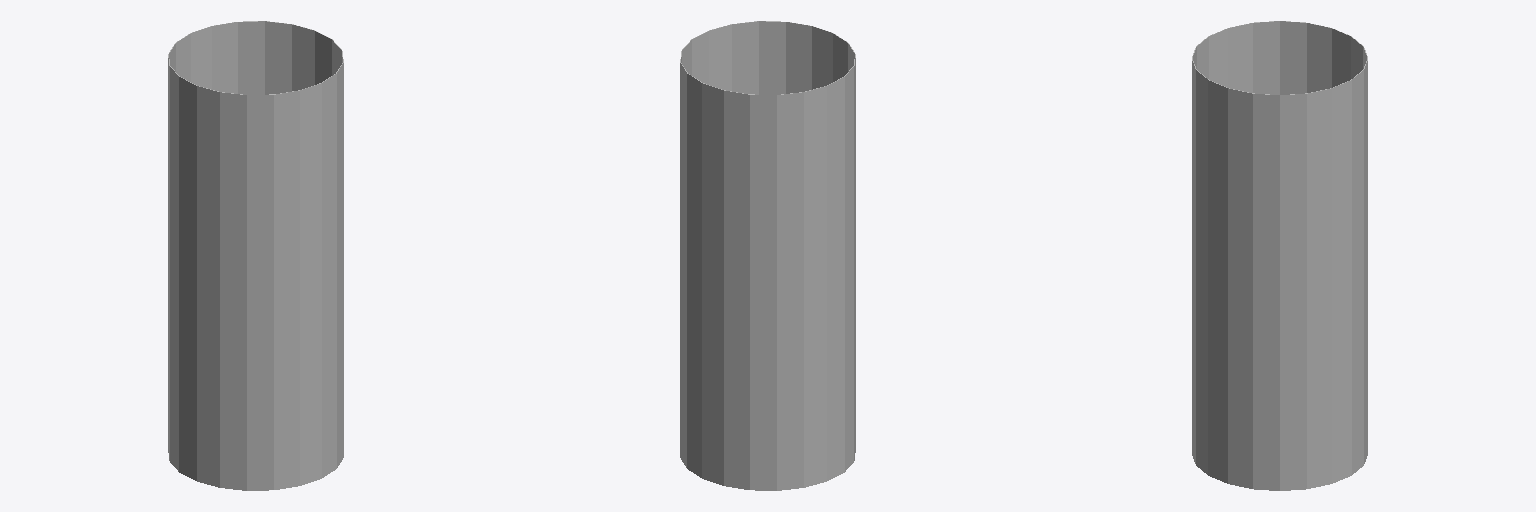
The model's file is cylinder-projection.obj.
The picture shows the model from 3 angles: view 1: azimuth 30°, elevation 25°; view 2: azimuth 150°, elevation 25°; view 3: azimuth 270°, elevation 25°; orthographic projection.
Visible parts, largest first — view 1: pPipe1; view 2: pPipe1; view 3: pPipe1.
Boxes of the visible parts, <box> form: pPipe1: <box>168,21,343,490</box>; pPipe1: <box>680,21,855,490</box>; pPipe1: <box>1192,21,1367,490</box>.
Bounding box in the file's own units: 14.42 × 35.59 × 14.42.